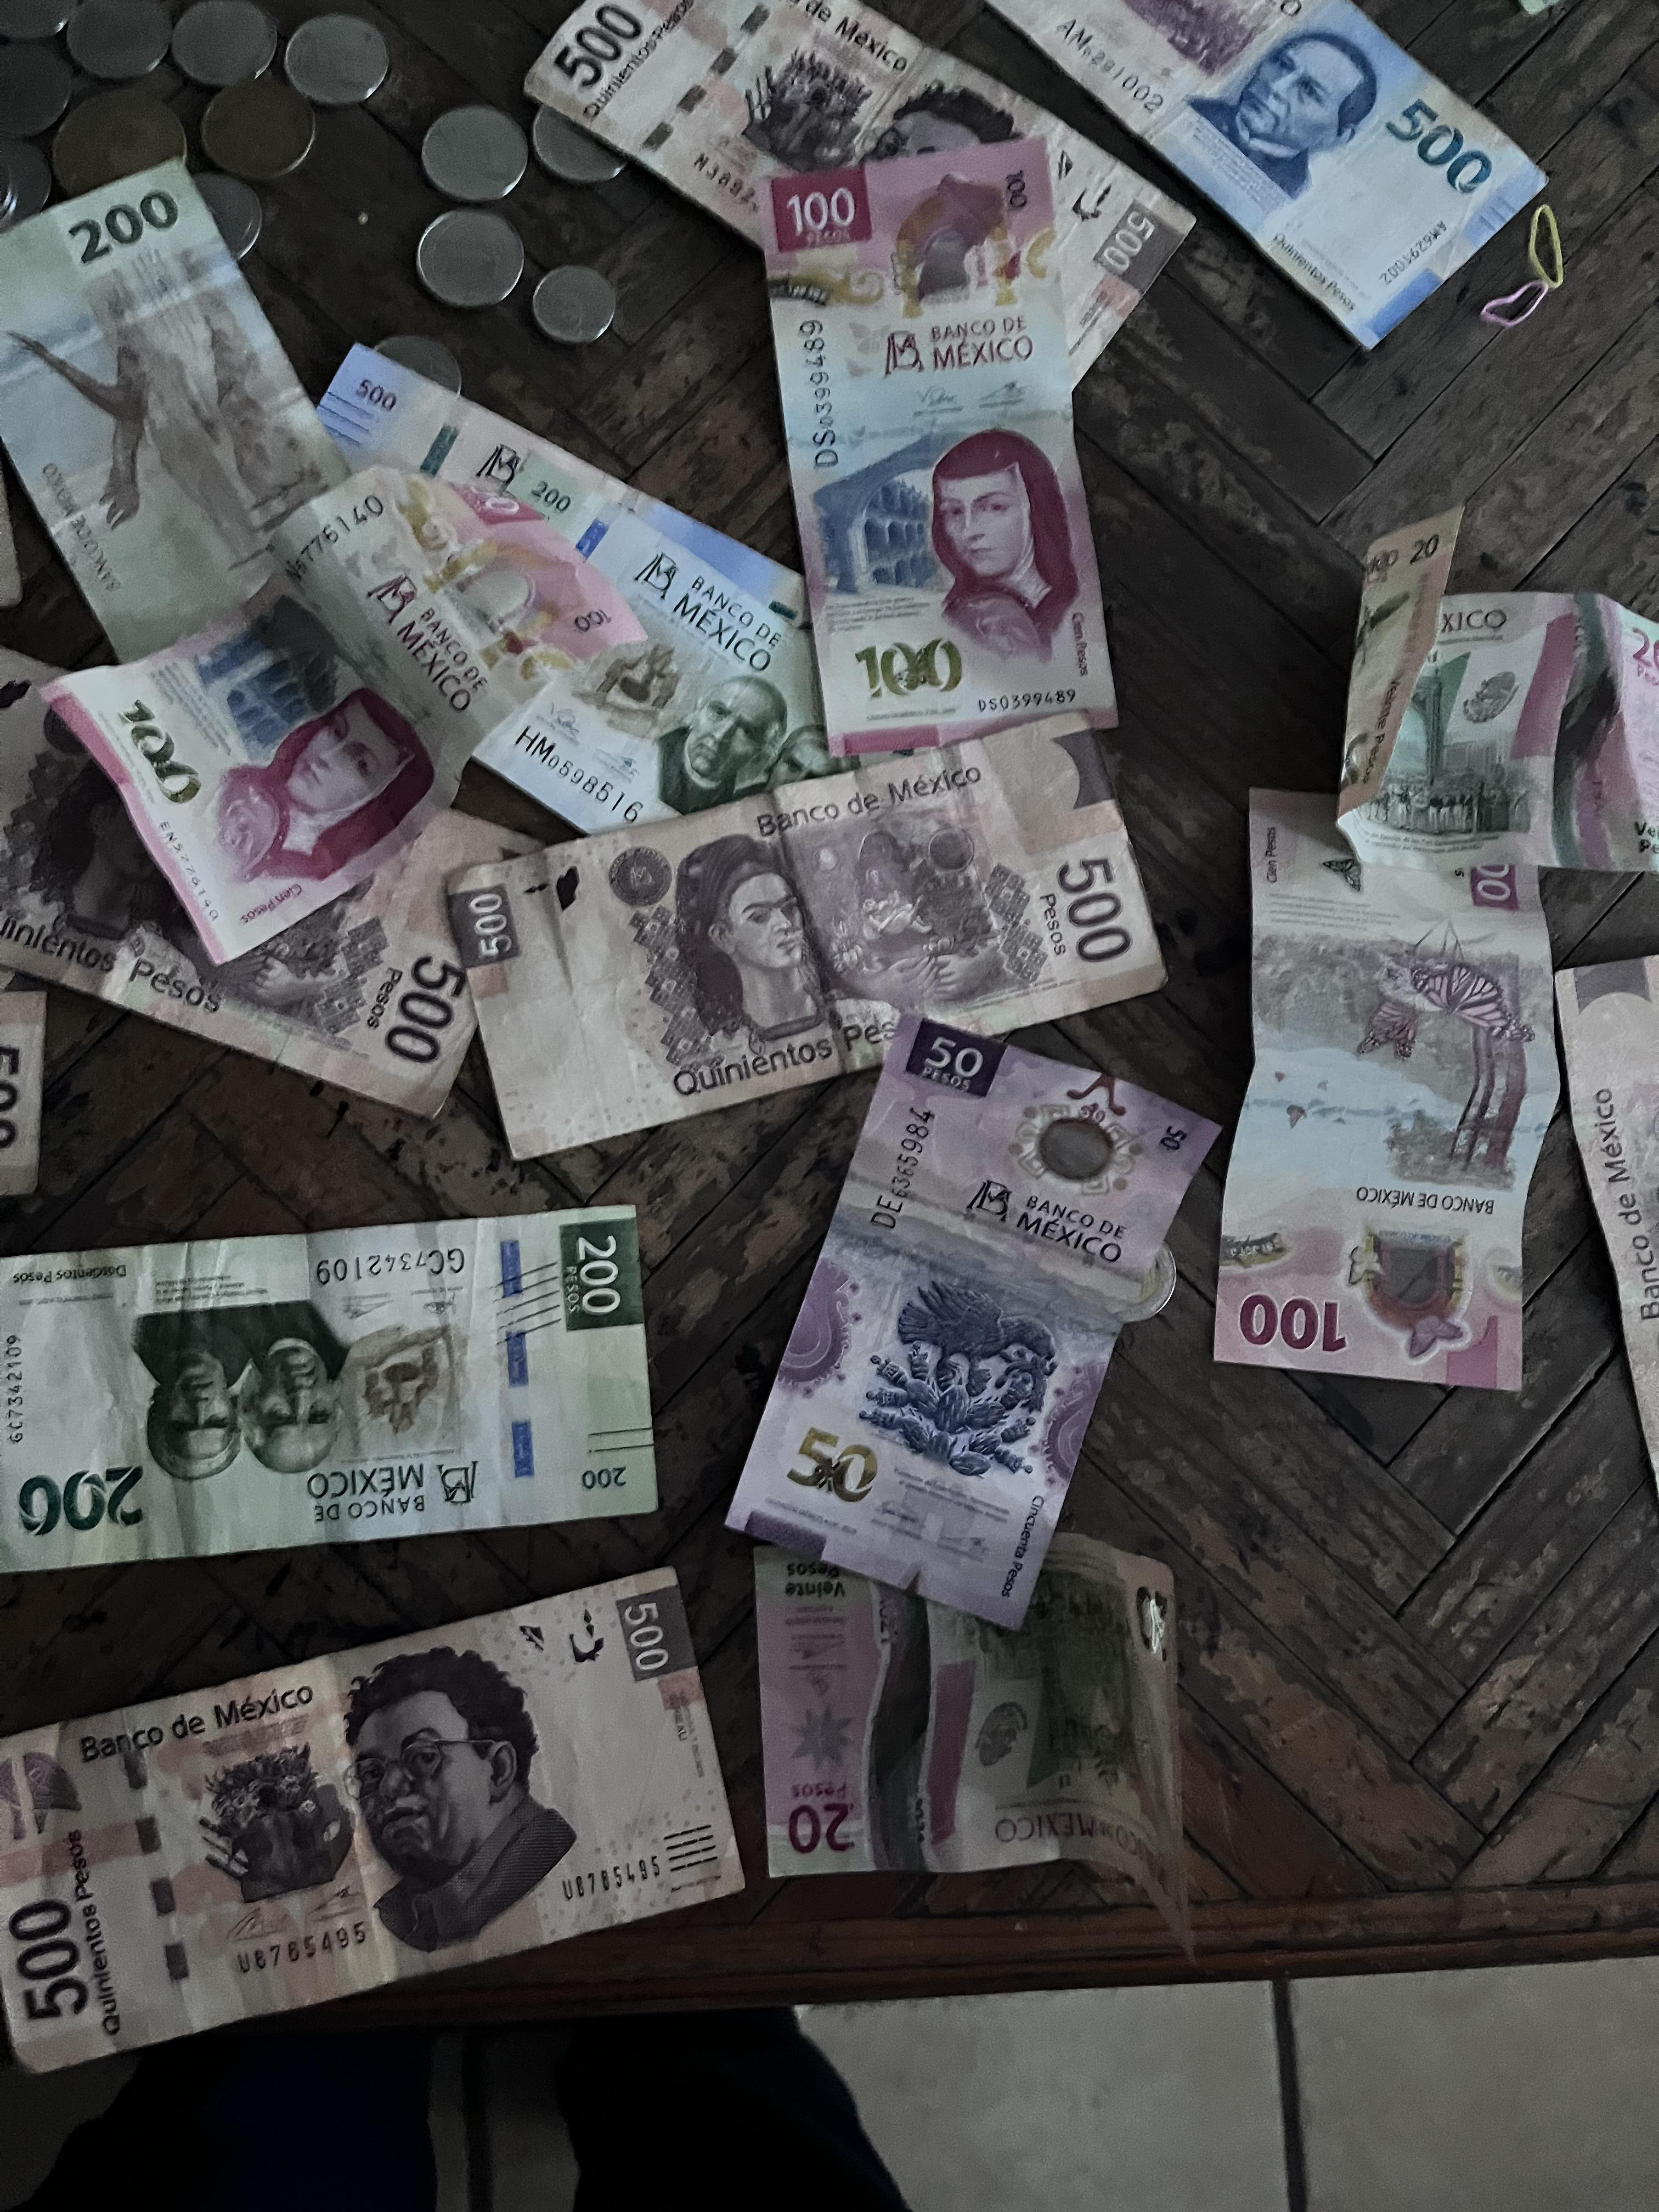100: (24, 442, 721, 984), (730, 134, 1131, 754), (1227, 779, 1572, 1421)
20: (718, 1519, 1262, 1952), (1309, 500, 1659, 921)
200: (387, 378, 906, 878), (0, 1197, 669, 1552), (3, 157, 397, 697)
50: (716, 988, 1218, 1627)
500: (0, 1578, 767, 2092), (441, 707, 1182, 1179), (532, 0, 1243, 418), (0, 658, 544, 1160), (1530, 916, 1659, 1524)
500 nuevo: (932, 0, 1561, 348)
